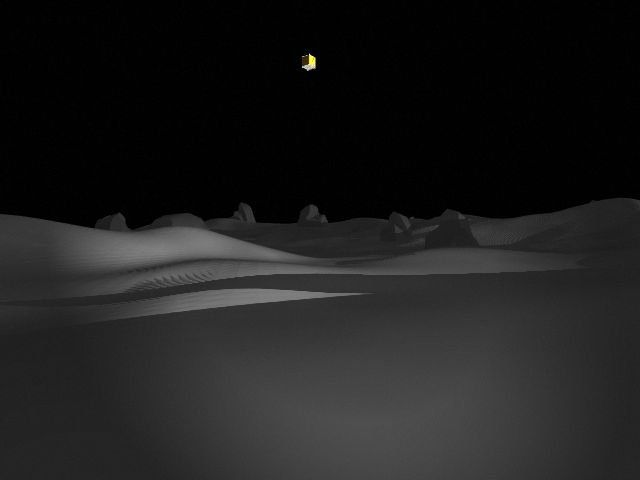cubesat: (296, 51, 321, 73)
